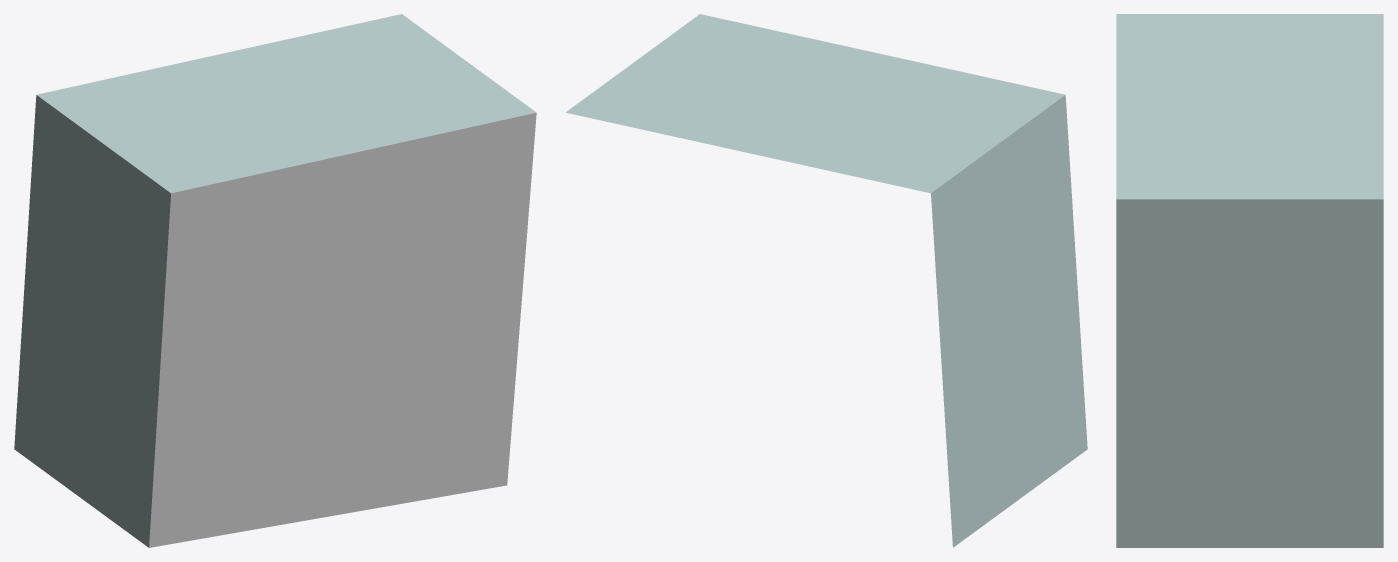
3 renders of one model, left to right at view 1: azimuth 30°, elevation 25°; view 2: azimuth 150°, elevation 25°; view 3: azimuth 270°, elevation 25°, orthographic.
Parts seen in each view (by area): view 1: 0_2_3_2_2_2_2_1_1; view 2: 0_2_3_2_2_2_2_1_1; view 3: 0_2_3_2_2_2_2_1_1.
Boxes of the visible parts, box(x1,y1,x2,y2) form: 0_2_3_2_2_2_2_1_1: box(14, 14, 536, 547); 0_2_3_2_2_2_2_1_1: box(565, 14, 1087, 547); 0_2_3_2_2_2_2_1_1: box(1116, 14, 1383, 547).
Bounding box in the file's own units: 4.98 × 4.59 × 3.
